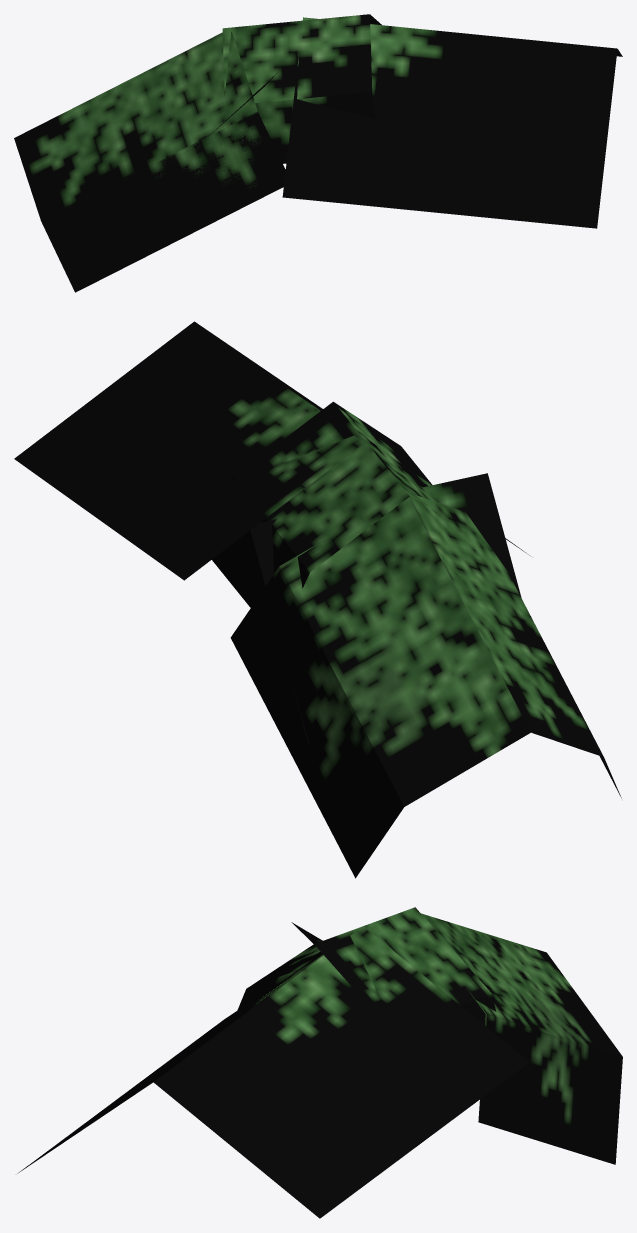
Rendered from spruce_leaves_slab_diagonal_3.obj.
3 views of the same model, one above another, from view 1: azimuth 30°, elevation 25°; view 2: azimuth 150°, elevation 25°; view 3: azimuth 270°, elevation 25° (orthographic). The views are drawn at different scales.
Visible parts, largest first — view 1: plane; view 2: plane, cube; view 3: plane.
Part boxes in pixels (x1,y1,x2,y2): plane: (14,14,622,292); plane: (14,321,621,878); cube: (250,473,521,744); plane: (17,907,622,1218).
Size of the model in its own units: 2.9 by 1.34 by 2.43.
